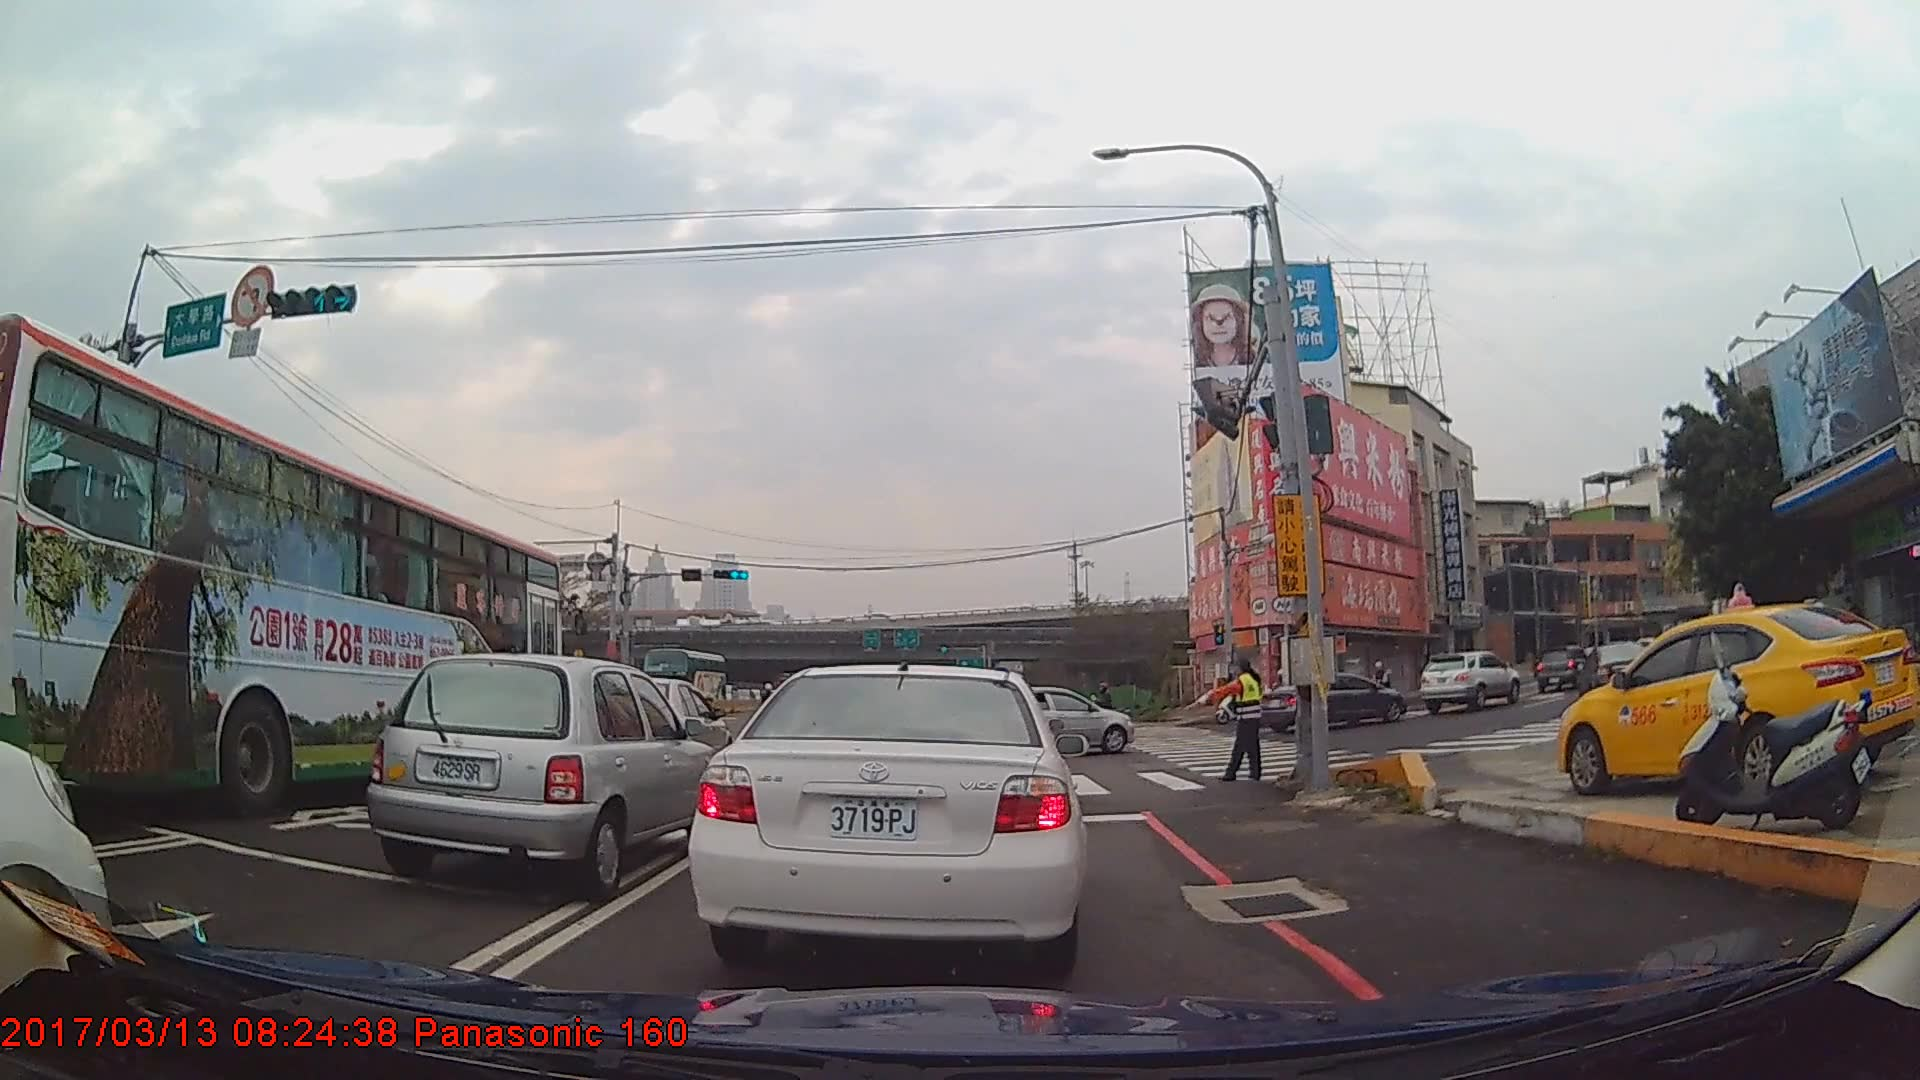pedestrian: (1184, 657, 1267, 789)
rider: (1362, 661, 1395, 712)
vehicle: (0, 311, 562, 812), (684, 659, 1086, 969), (363, 650, 723, 898), (1554, 600, 1917, 796), (969, 684, 1134, 756), (1260, 670, 1404, 735), (1417, 649, 1520, 712), (1578, 639, 1656, 707), (643, 645, 725, 707), (1536, 646, 1591, 692)
